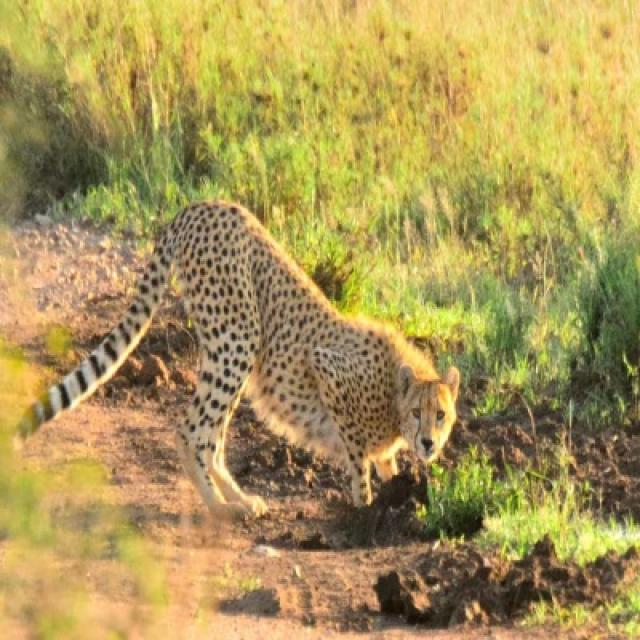Cheetah: (29, 200, 459, 518)
